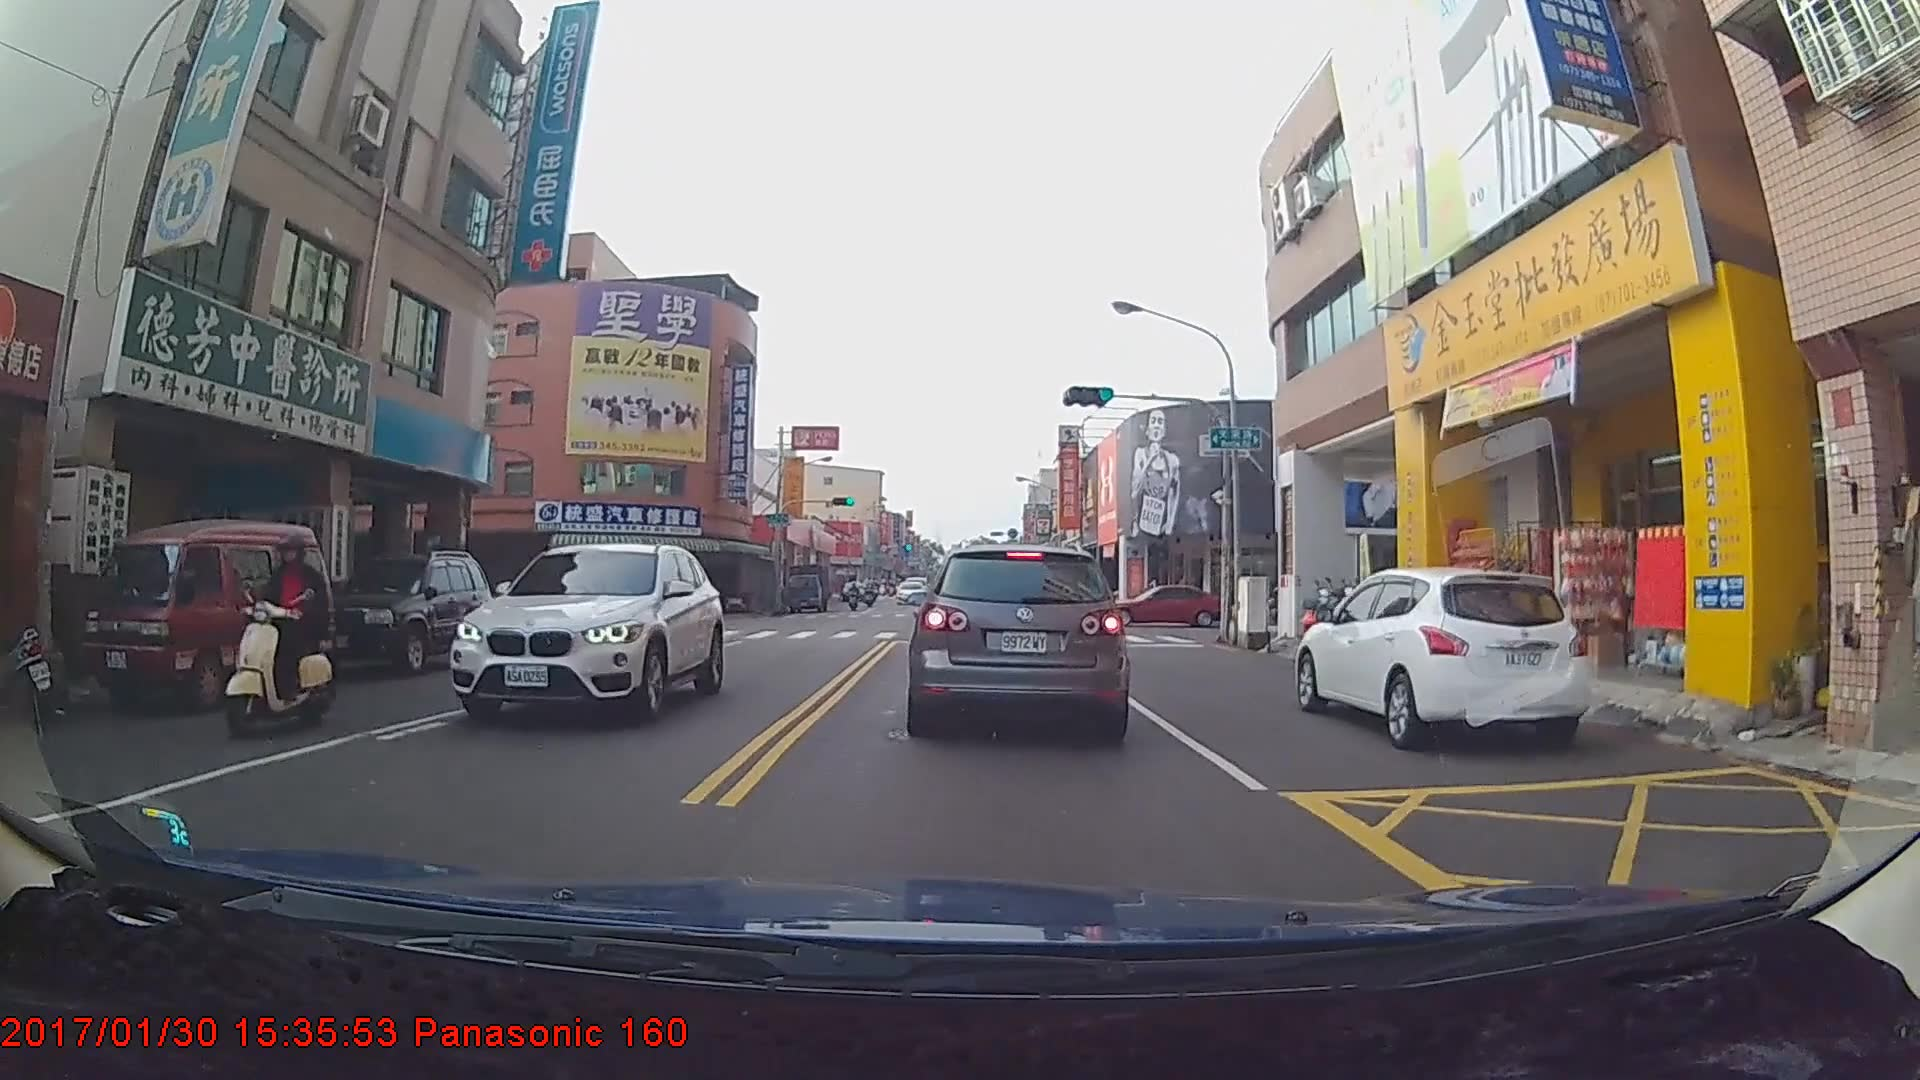rider: (232, 531, 345, 742), (844, 576, 864, 611), (847, 576, 867, 605)
vehicle: (1294, 568, 1592, 753), (446, 541, 729, 723), (88, 522, 331, 708), (904, 540, 1127, 740), (304, 551, 491, 677), (1103, 583, 1222, 630), (780, 561, 832, 611), (895, 580, 927, 605)
